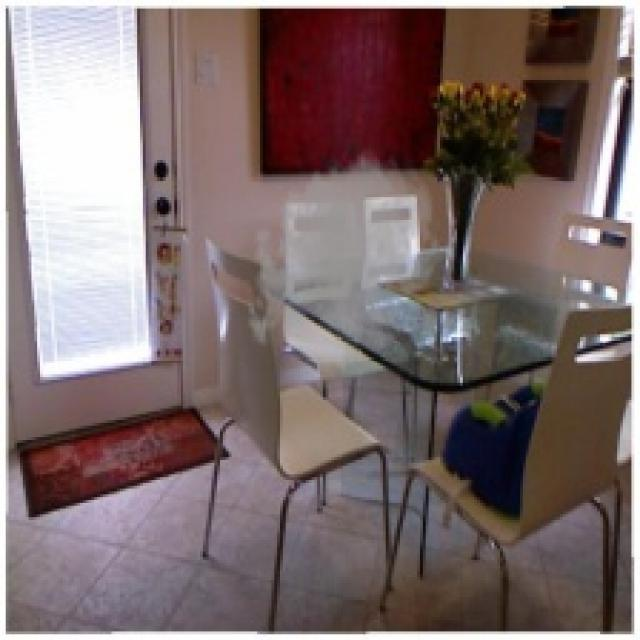smoke: (243, 146, 454, 377)
